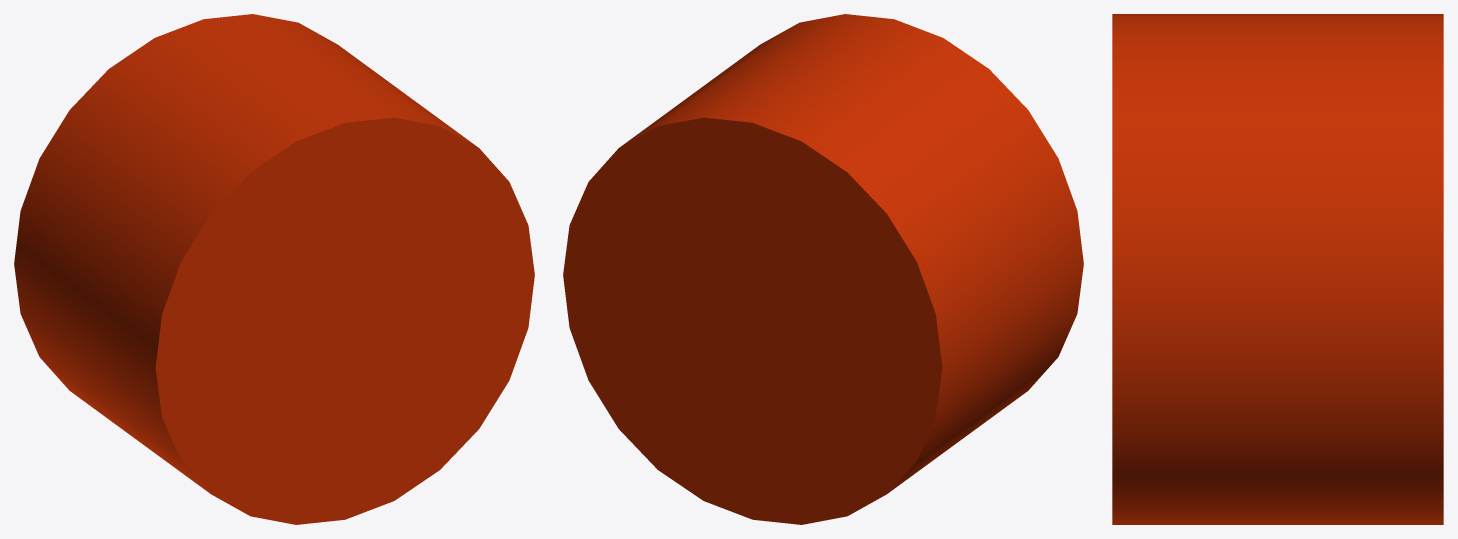
File: original-4.obj
3 views of the same model, side by side, from view 1: azimuth 30°, elevation 25°; view 2: azimuth 150°, elevation 25°; view 3: azimuth 270°, elevation 25° (orthographic). The views are drawn at different scales.
Parts seen in each view (by area): view 1: mesh1/mesh1-geometry#mesh1-geometry; view 2: mesh1/mesh1-geometry#mesh1-geometry; view 3: mesh1/mesh1-geometry#mesh1-geometry.
Boxes of the visible parts, x1,y1,x2,y2 form: mesh1/mesh1-geometry#mesh1-geometry: (14,14,534,524); mesh1/mesh1-geometry#mesh1-geometry: (563,14,1083,524); mesh1/mesh1-geometry#mesh1-geometry: (1112,14,1443,524).
Size of the model in its own units: 0.0925 by 0.0925 by 0.0598.
